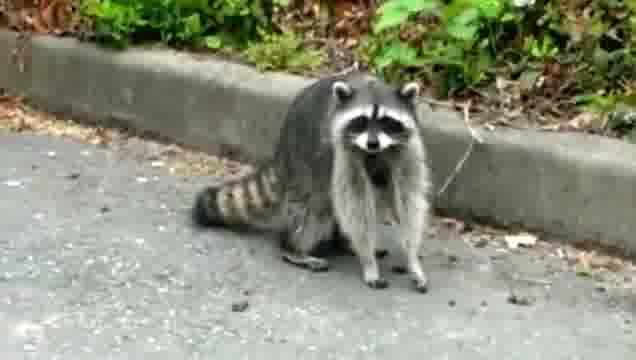raccoon: (194, 69, 436, 296)
